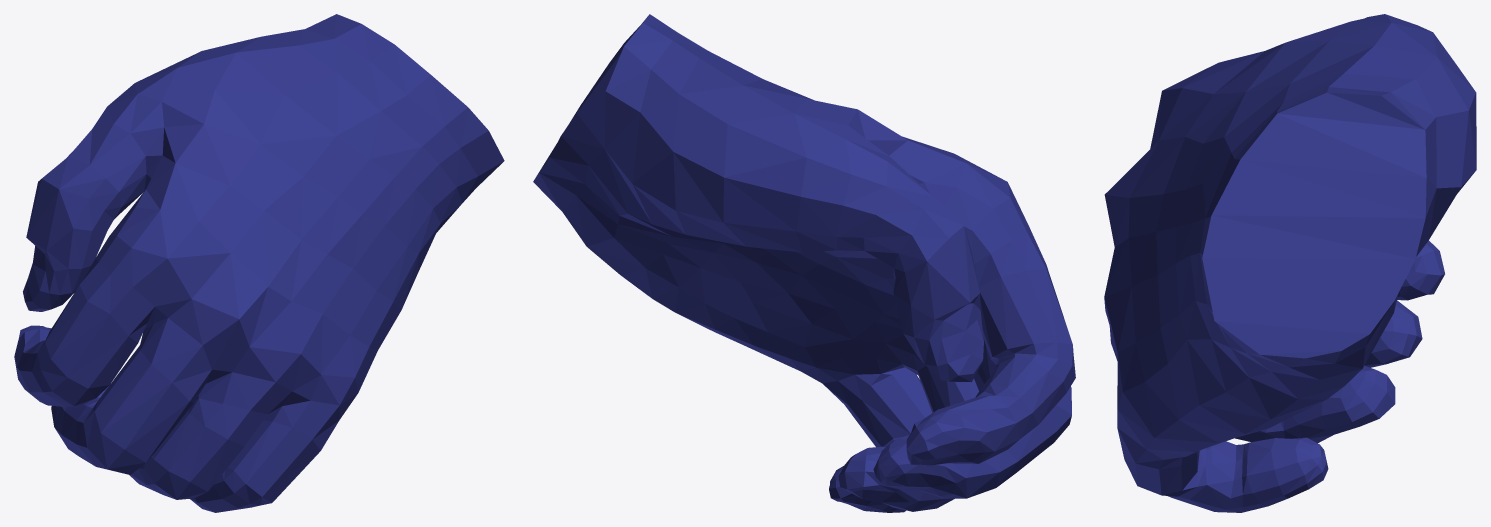
3 views of the same model, side by side, from view 1: azimuth 30°, elevation 25°; view 2: azimuth 150°, elevation 25°; view 3: azimuth 270°, elevation 25° (orthographic). The views are drawn at different scales.
Bounding box in the file's own units: 0.1402 × 0.1214 × 0.0774.
